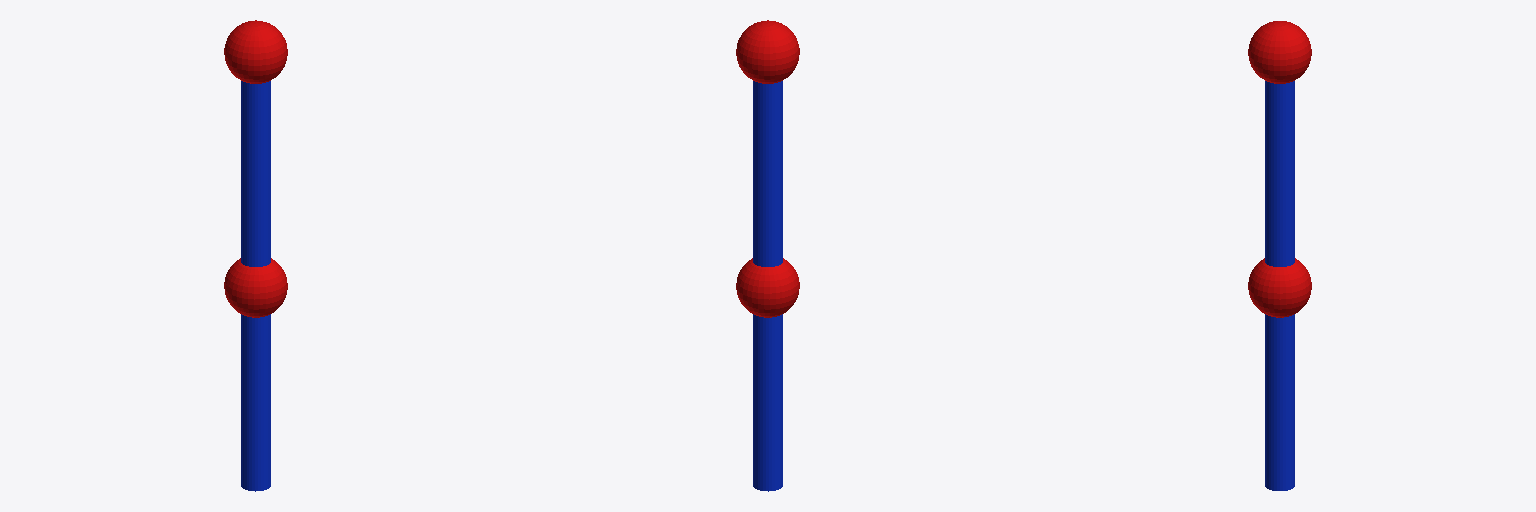
robot.urdf — four_link_planar_biped:
<?xml version="1.0"?>
<robot name="four_link_planar_biped">
  <material name="link_blue"><color rgba="0.10 0.25 0.85 1.0"/></material>
  <material name="motor_red"><color rgba="0.85 0.10 0.10 1.0"/></material>

  <!-- Grounded links use +z from their proximal joint. -->
  <link name="grounded_tibia">
    <inertial><origin xyz="0 0 0.086" rpy="0 0 0"/><mass value="0.0172"/>
      <inertia ixx="4.240373333333332e-05" ixy="0" ixz="0" iyy="4.240373333333332e-05" iyz="0" izz="4.240373333333332e-05"/></inertial>
    <visual><origin xyz="0 0 0.086" rpy="0 0 0"/><geometry><cylinder radius="0.012" length="0.172"/></geometry><material name="link_blue"/></visual>
  </link>
  <link name="grounded_femur">
    <inertial><origin xyz="0 0 0.101" rpy="0 0 0"/><mass value="0.0202"/>
      <inertia ixx="6.868673333333335e-05" ixy="0" ixz="0" iyy="6.868673333333335e-05" iyz="0" izz="6.868673333333335e-05"/></inertial>
    <visual><origin xyz="0 0 0.101" rpy="0 0 0"/><geometry><cylinder radius="0.012" length="0.202"/></geometry><material name="link_blue"/></visual>
  </link>
  <!-- Swing links use -z from their proximal joint. -->
  <link name="swing_femur">
    <inertial><origin xyz="0 0 -0.101" rpy="0 0 0"/><mass value="0.0202"/>
      <inertia ixx="6.868673333333335e-05" ixy="0" ixz="0" iyy="6.868673333333335e-05" iyz="0" izz="6.868673333333335e-05"/></inertial>
    <visual><origin xyz="0 0 -0.101" rpy="0 0 0"/><geometry><cylinder radius="0.012" length="0.202"/></geometry><material name="link_blue"/></visual>
  </link>
  <link name="swing_tibia">
    <inertial><origin xyz="0 0 -0.086" rpy="0 0 0"/><mass value="0.0172"/>
      <inertia ixx="4.240373333333332e-05" ixy="0" ixz="0" iyy="4.240373333333332e-05" iyz="0" izz="4.240373333333332e-05"/></inertial>
    <visual><origin xyz="0 0 -0.086" rpy="0 0 0"/><geometry><cylinder radius="0.012" length="0.172"/></geometry><material name="link_blue"/></visual>
  </link>

  <!-- Inertia data. Links: uniform thin rods, I = m L^2/12 about their centre of mass (the
       <inertial> origin, at the middle of the link). Motors: point masses (0.4 kg each, two at the
       hip), with no rotor inertia. Same model as BipedModel.jl (Multibody2D). -->
  <!-- The two motor masses are located at the hip. -->
  <link name="hip_motor_1">
    <inertial><origin xyz="0 0 0" rpy="0 0 0"/><mass value="0.4"/>
      <inertia ixx="0" ixy="0" ixz="0" iyy="0" iyz="0" izz="0"/></inertial>
    <visual><geometry><sphere radius="0.025"/></geometry><material name="motor_red"/></visual>
  </link>
  <link name="hip_motor_2">
    <inertial><origin xyz="0 0 0" rpy="0 0 0"/><mass value="0.4"/>
      <inertia ixx="0" ixy="0" ixz="0" iyy="0" iyz="0" izz="0"/></inertial>
    <visual><geometry><sphere radius="0.025"/></geometry><material name="motor_red"/></visual>
  </link>
  <!-- Knee motors are 0.4 kg point masses with no intervening actuated joint:
       q2 and q4 are directly actuated. -->
  <link name="grounded_knee_motor">
    <inertial><origin xyz="0 0 0" rpy="0 0 0"/><mass value="0.4"/>
      <inertia ixx="0" ixy="0" ixz="0" iyy="0" iyz="0" izz="0"/></inertial>
    <visual><geometry><sphere radius="0.025"/></geometry><material name="motor_red"/></visual>
  </link>
  <link name="swing_knee_motor">
    <inertial><origin xyz="0 0 0" rpy="0 0 0"/><mass value="0.4"/>
      <inertia ixx="0" ixy="0" ixz="0" iyy="0" iyz="0" izz="0"/></inertial>
    <visual><geometry><sphere radius="0.025"/></geometry><material name="motor_red"/></visual>
  </link>

  <!-- q2: grounded femur relative to grounded tibia. -->
  <joint name="grounded_knee" type="revolute">
    <parent link="grounded_tibia"/><child link="grounded_femur"/>
    <origin xyz="0 0 0.172" rpy="0 0 0"/><axis xyz="0 1 0"/>
    <limit lower="-3.14159265359" upper="3.14159265359" effort="100" velocity="20"/>
  </joint>
  <!-- q3: swing femur relative to grounded femur; zero means femurs side-by-side. -->
  <joint name="hip" type="revolute">
    <parent link="grounded_femur"/><child link="swing_femur"/>
    <origin xyz="0 0 0.202" rpy="0 0 0"/><axis xyz="0 1 0"/>
    <limit lower="-3.14159265359" upper="3.14159265359" effort="100" velocity="20"/>
  </joint>
  <!-- q4: swing tibia relative to swing femur; zero means straight. -->
  <joint name="swing_knee" type="revolute">
    <parent link="swing_femur"/><child link="swing_tibia"/>
    <origin xyz="0 0 -0.202" rpy="0 0 0"/><axis xyz="0 1 0"/>
    <limit lower="-3.14159265359" upper="3.14159265359" effort="100" velocity="20"/>
  </joint>
  <joint name="hip_motor_1_mount" type="fixed">
    <parent link="grounded_femur"/><child link="hip_motor_1"/><origin xyz="0 0 0.202" rpy="0 0 0"/>
  </joint>
  <joint name="hip_motor_2_mount" type="fixed">
    <parent link="grounded_femur"/><child link="hip_motor_2"/><origin xyz="0 0 0.202" rpy="0 0 0"/>
  </joint>
  <joint name="grounded_knee_motor_mount" type="fixed">
    <parent link="grounded_tibia"/><child link="grounded_knee_motor"/><origin xyz="0 0 0.172" rpy="0 0 0"/>
  </joint>
  <joint name="swing_knee_motor_mount" type="fixed">
    <parent link="swing_femur"/><child link="swing_knee_motor"/><origin xyz="0 0 -0.202" rpy="0 0 0"/>
  </joint>
</robot>

--- What the picture shows (computed from the rendered views, not written in the file) ---
Views: 3 orthographic renders of the robot side by side, from view 1: azimuth 30°, elevation 25°; view 2: azimuth 150°, elevation 25°; view 3: azimuth 270°, elevation 25°.
Model four_link_planar_biped with 8 links and 7 joints (3 revolute, 4 fixed), rooted at grounded_tibia, posed all joints at 0.
Visible links, largest first — view 1: grounded_femur, grounded_tibia, hip_motor_1, grounded_knee_motor; view 2: grounded_femur, grounded_tibia, hip_motor_1, grounded_knee_motor; view 3: grounded_femur, grounded_tibia, hip_motor_1, grounded_knee_motor.
Boxes of the visible links, bbox=[...] form: grounded_femur: bbox=[241, 81, 270, 266]; grounded_tibia: bbox=[241, 314, 270, 491]; hip_motor_1: bbox=[224, 20, 287, 83]; grounded_knee_motor: bbox=[224, 258, 287, 317]; grounded_femur: bbox=[753, 81, 782, 266]; grounded_tibia: bbox=[753, 314, 782, 491]; hip_motor_1: bbox=[736, 20, 799, 83]; grounded_knee_motor: bbox=[736, 258, 799, 317]; grounded_femur: bbox=[1265, 81, 1294, 266]; grounded_tibia: bbox=[1265, 314, 1294, 490]; hip_motor_1: bbox=[1248, 21, 1311, 83]; grounded_knee_motor: bbox=[1248, 258, 1311, 317].
Bounding box of the posed robot: 0.05 × 0.05 × 0.399 m (x, y, z).
Geometry: primitives only (box / cylinder / sphere), no mesh files.
